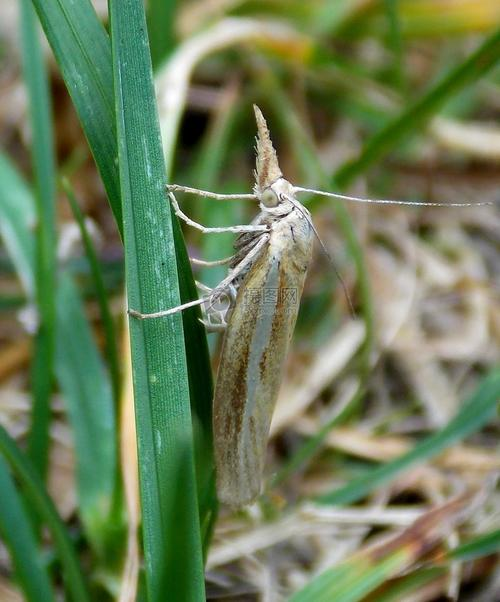Crambidae: (125, 103, 469, 515)
